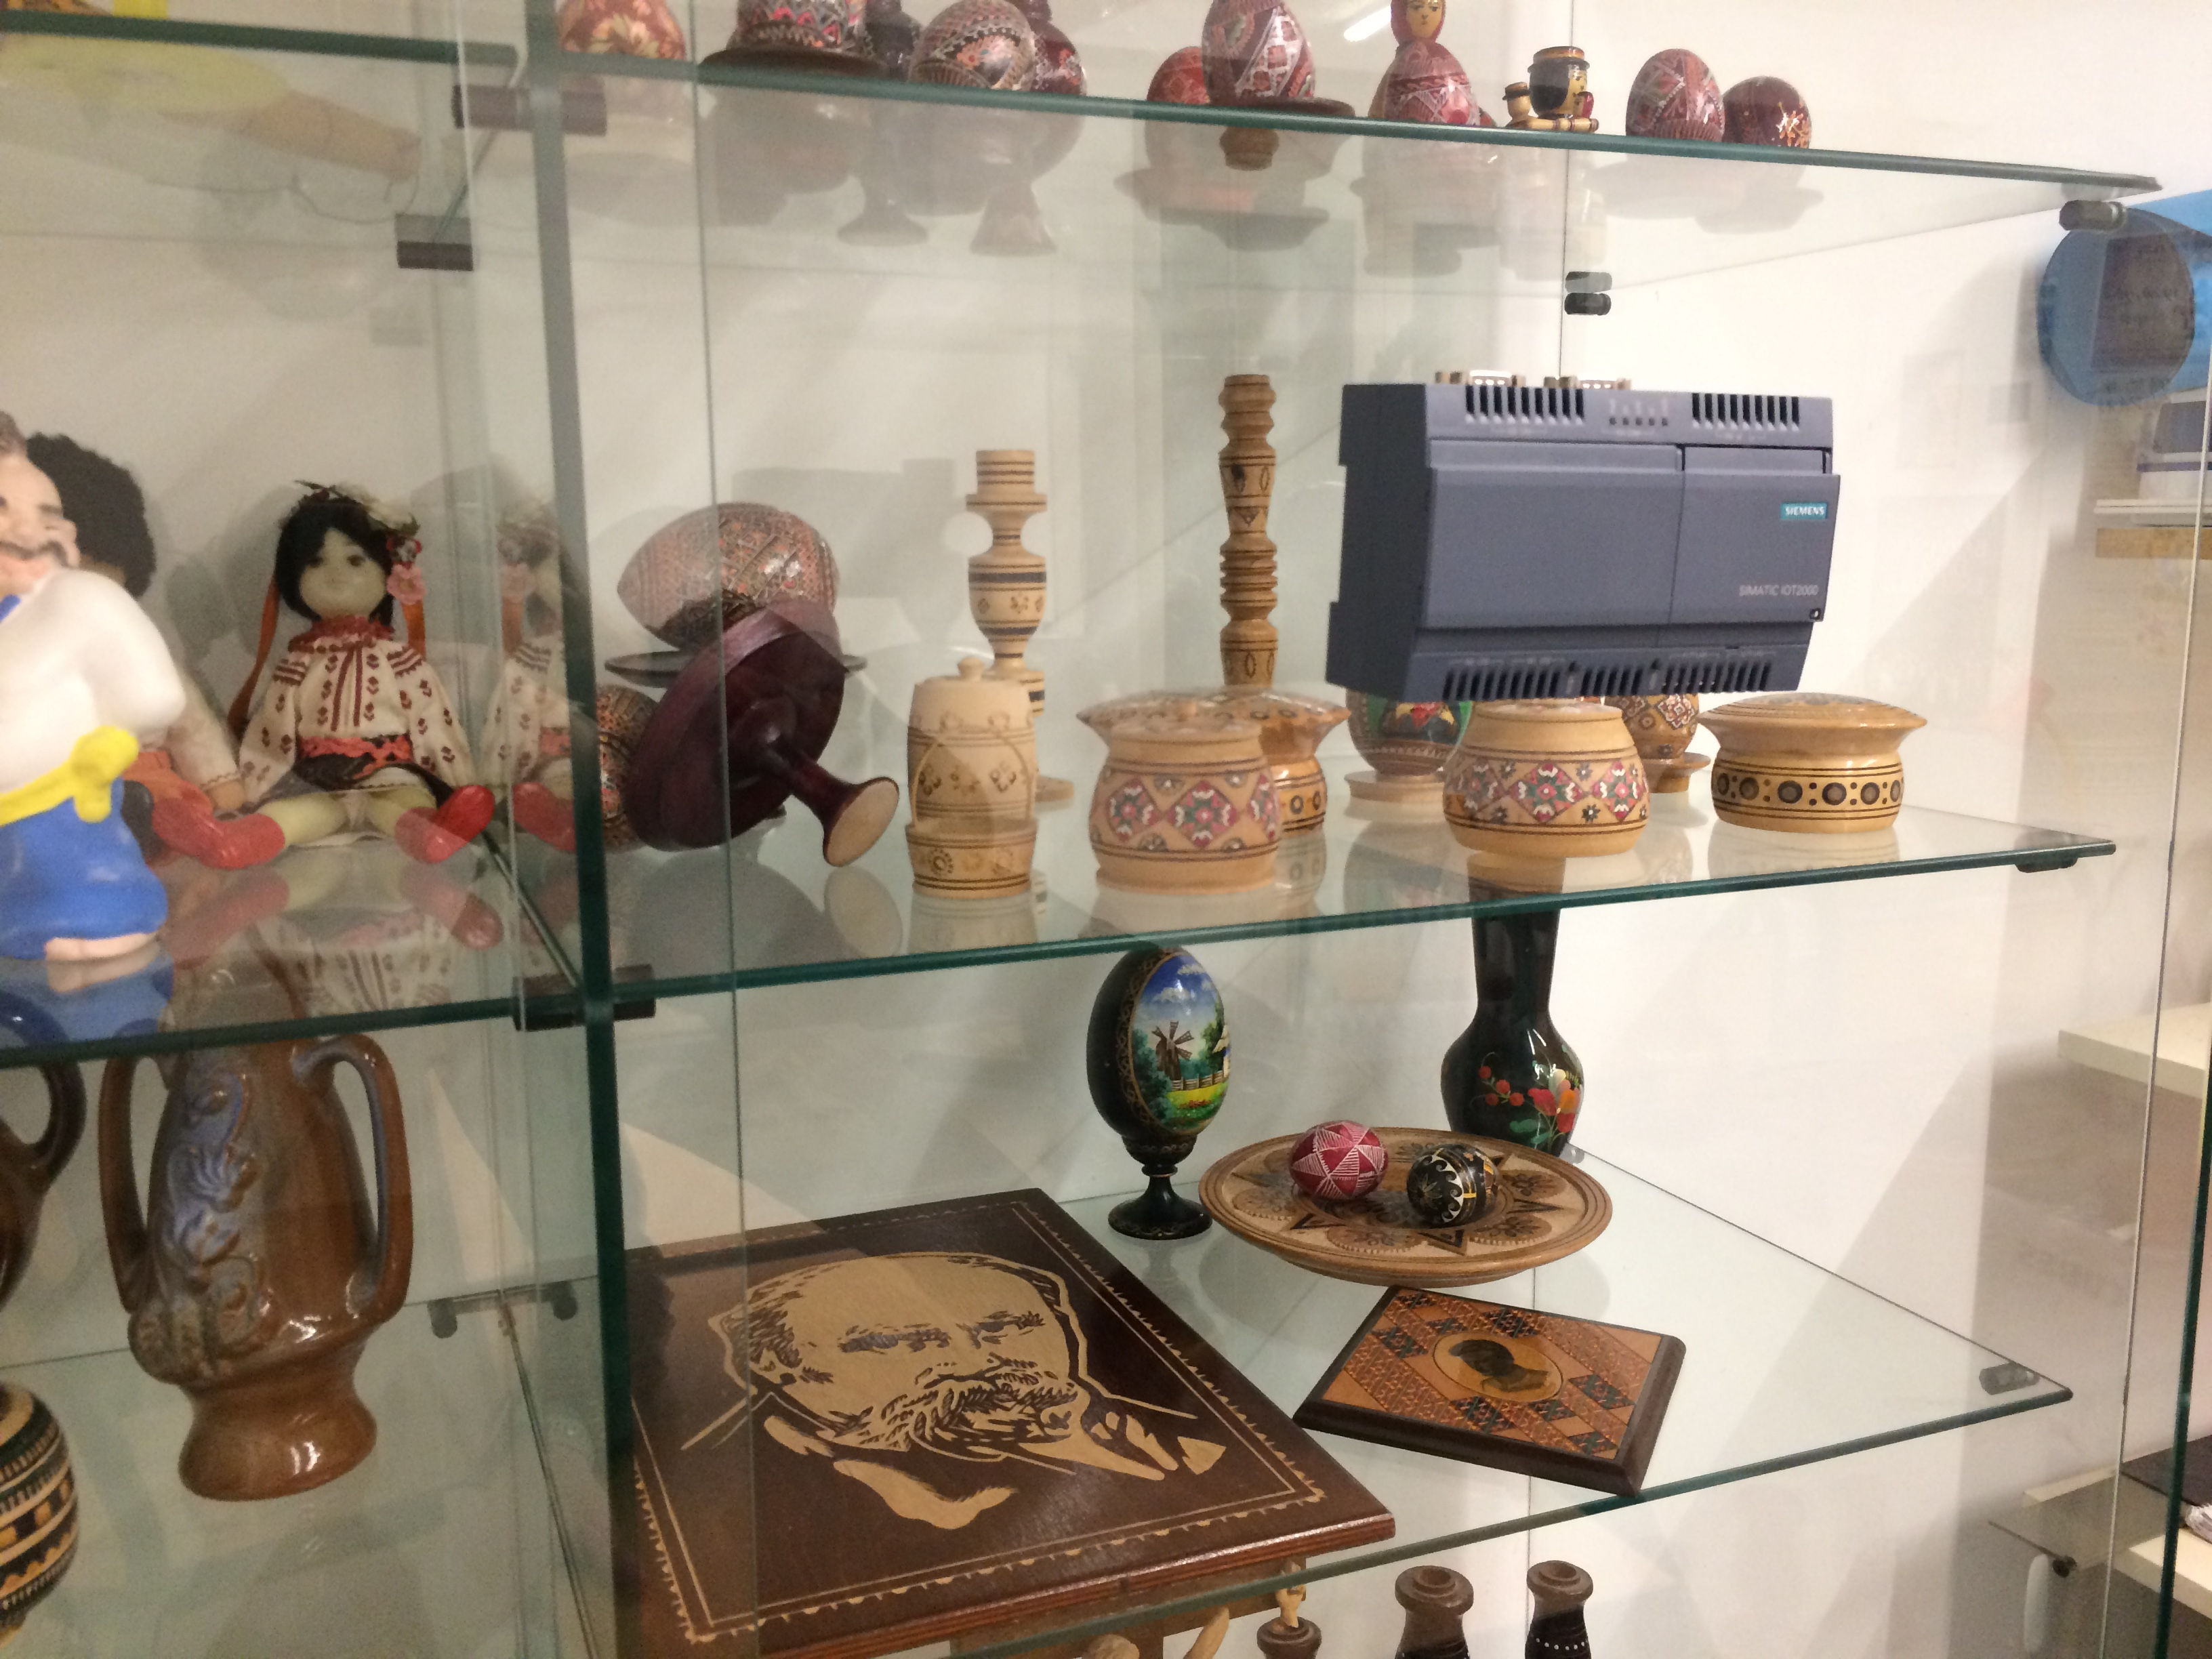iot2000: (1324, 366, 1843, 706)
